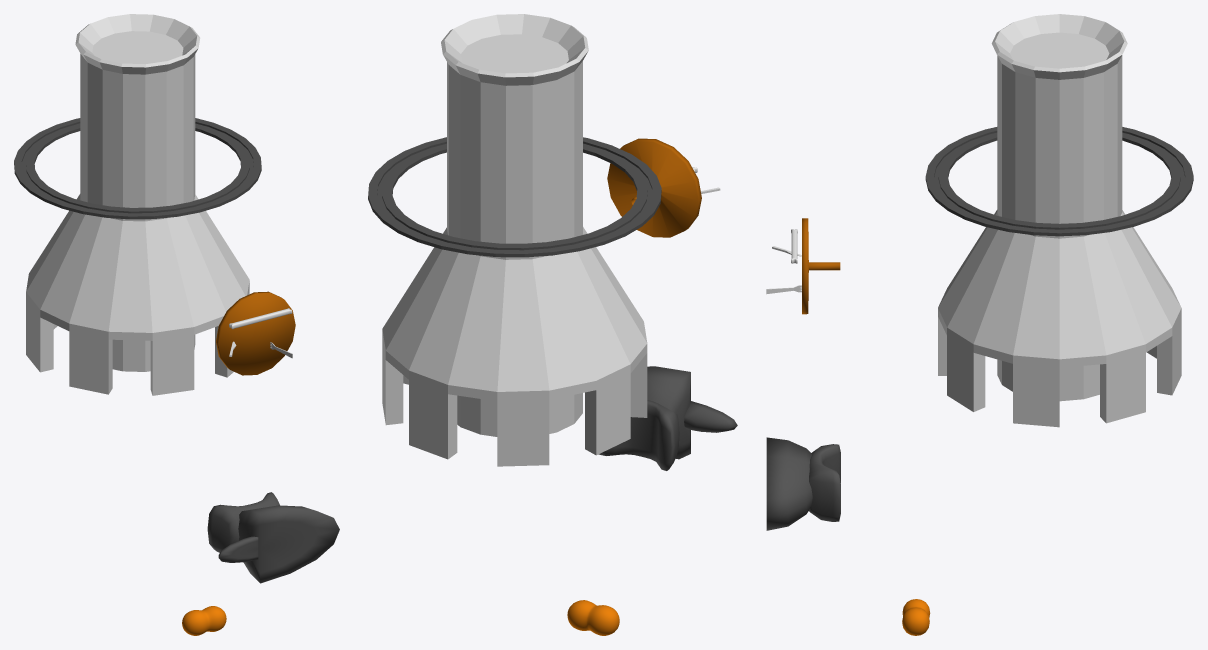
File: ItemShop.fbx
3 renders of one model, left to right at view 1: azimuth 30°, elevation 25°; view 2: azimuth 150°, elevation 25°; view 3: azimuth 270°, elevation 25°, orthographic. The views are drawn at different scales.
Visible parts, largest first — view 1: tower, anvil, line, table, meat; view 2: tower, line, anvil, table, meat; view 3: tower, line, anvil, table, meat.
Part boxes in pixels (x1,y1,x2,y2): tower: (26,14,249,395); anvil: (207,492,339,583); line: (14,118,261,219); table: (216,291,295,375); meat: (182,606,226,635); tower: (382,14,647,466); line: (368,137,661,257); anvil: (598,366,737,470); table: (607,138,701,237); meat: (567,600,619,635); tower: (938,14,1181,427); line: (925,127,1193,236); anvil: (766,437,840,530); table: (802,218,840,314); meat: (902,599,930,635).
Bounding box in the file's own units: 14.39 × 34.85 × 22.94.
